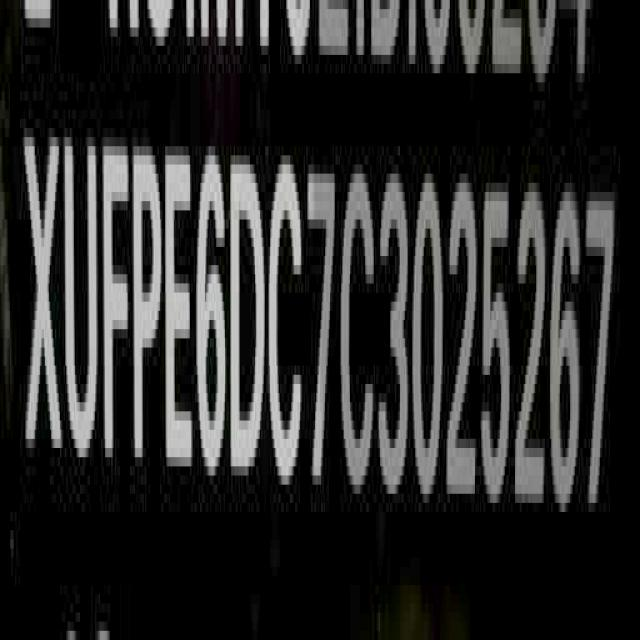0: (414, 171, 444, 506)
2: (516, 182, 548, 515), (449, 173, 480, 510)
3: (380, 168, 413, 504)
5: (482, 172, 512, 512)
6: (194, 149, 228, 488), (550, 182, 580, 514)
7: (587, 178, 617, 516), (307, 151, 335, 502)
C: (340, 169, 375, 491), (269, 155, 302, 490)
D: (231, 148, 263, 490)
E: (166, 134, 194, 488)
F: (102, 142, 130, 471)
P: (132, 135, 164, 481)
U: (64, 122, 99, 467)
X: (25, 120, 61, 468)
